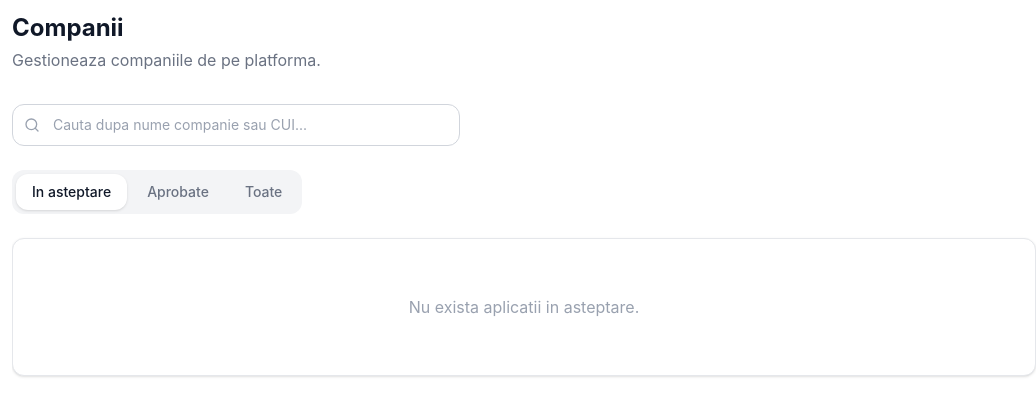
Test case: CompaniesPage › shows empty state when no companies on all tab
Click the button "Toate": [264, 192] box [229,174,298,210]
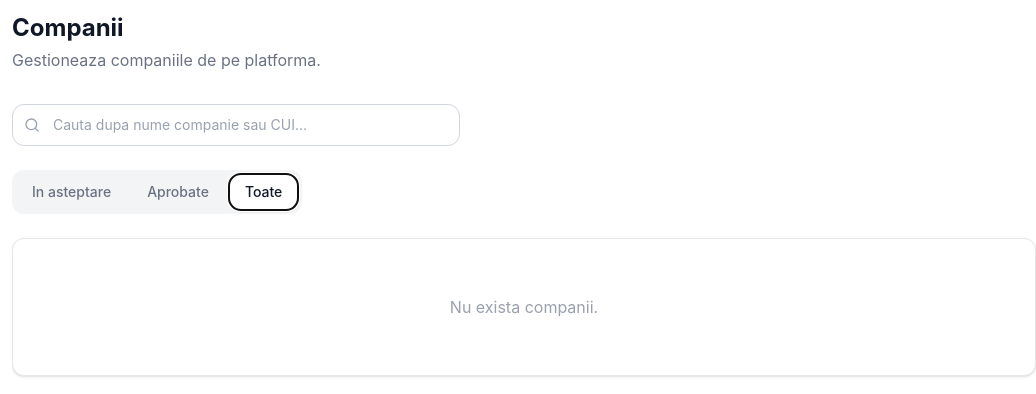
Check: the text "Nu exista companii." is shown, box [450,297,598,317]
